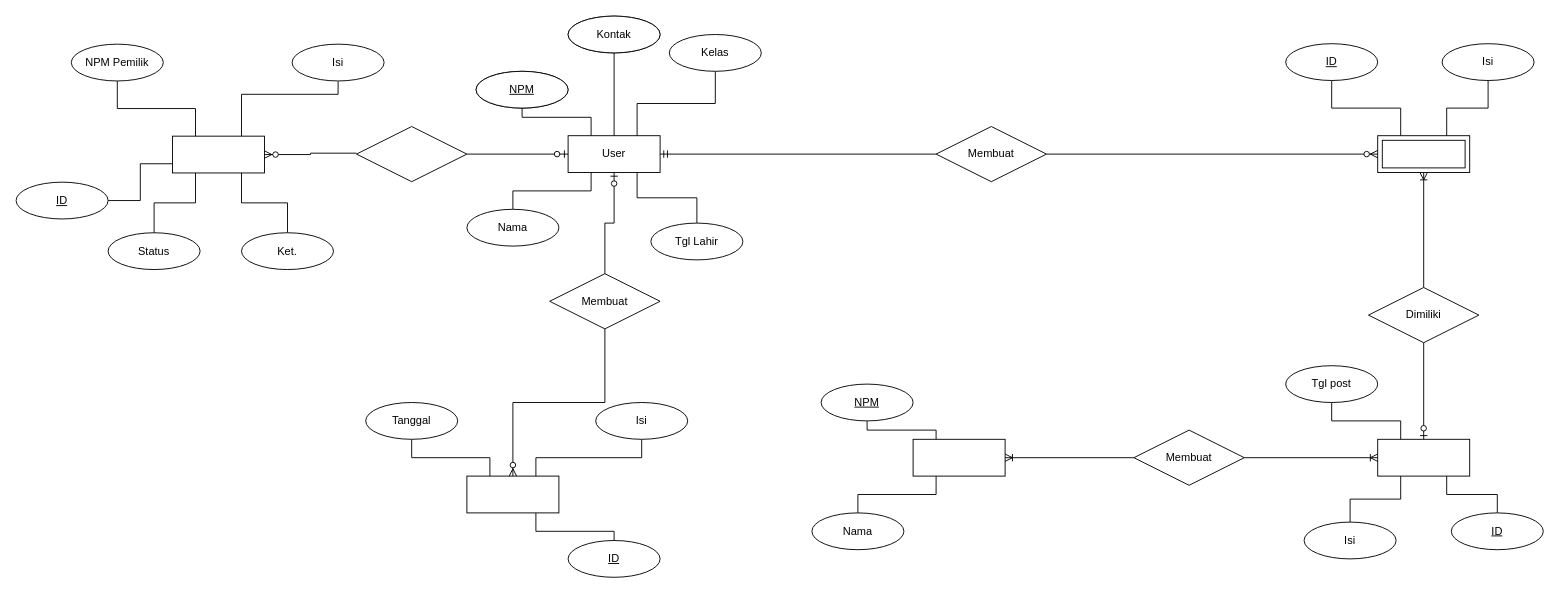
The diagram is 1559 pixels wide and 593 high, and some of its shapes have lost their labels. Here are the shapes that lost their labels. From the top down, the centre of each, then its label:
point 218,154: To Do List
point 411,154: Dibuat
point 1423,153: Komentar
point 958,457: Admin
point 1423,457: Announcement
point 512,494: Calender
